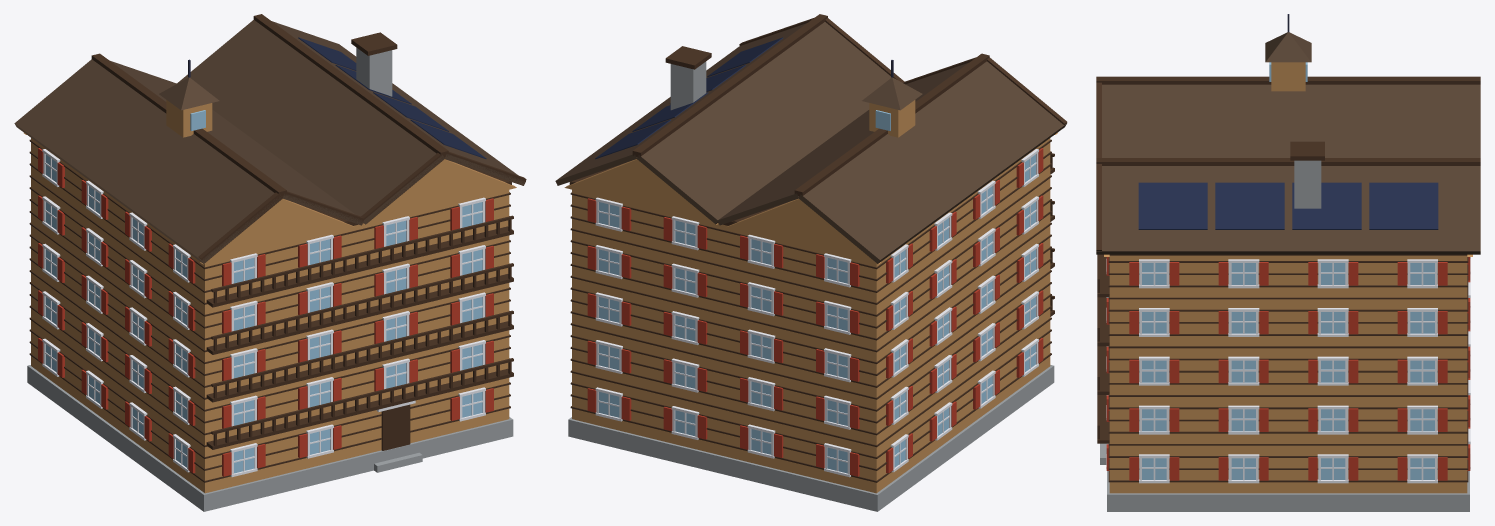
File: house-2x2-5f-chalet-a-solar.glb
The picture shows the model from 3 angles, left to right: view 1: azimuth 30°, elevation 25°; view 2: azimuth 150°, elevation 25°; view 3: azimuth 270°, elevation 25°; orthographic projection. The views are drawn at different scales.
Parts seen in each view (by area): view 1: house-2x2-5f-chalet-a-solar; view 2: house-2x2-5f-chalet-a-solar; view 3: house-2x2-5f-chalet-a-solar.
Boxes of the visible parts, x1,y1,x2,y2 form: house-2x2-5f-chalet-a-solar: (14,14,526,511); house-2x2-5f-chalet-a-solar: (555,14,1067,511); house-2x2-5f-chalet-a-solar: (1096,14,1480,511).
Bounding box in the file's own units: 2.01 × 2.18 × 2.
Materials: 1 (1 with a texture image).
